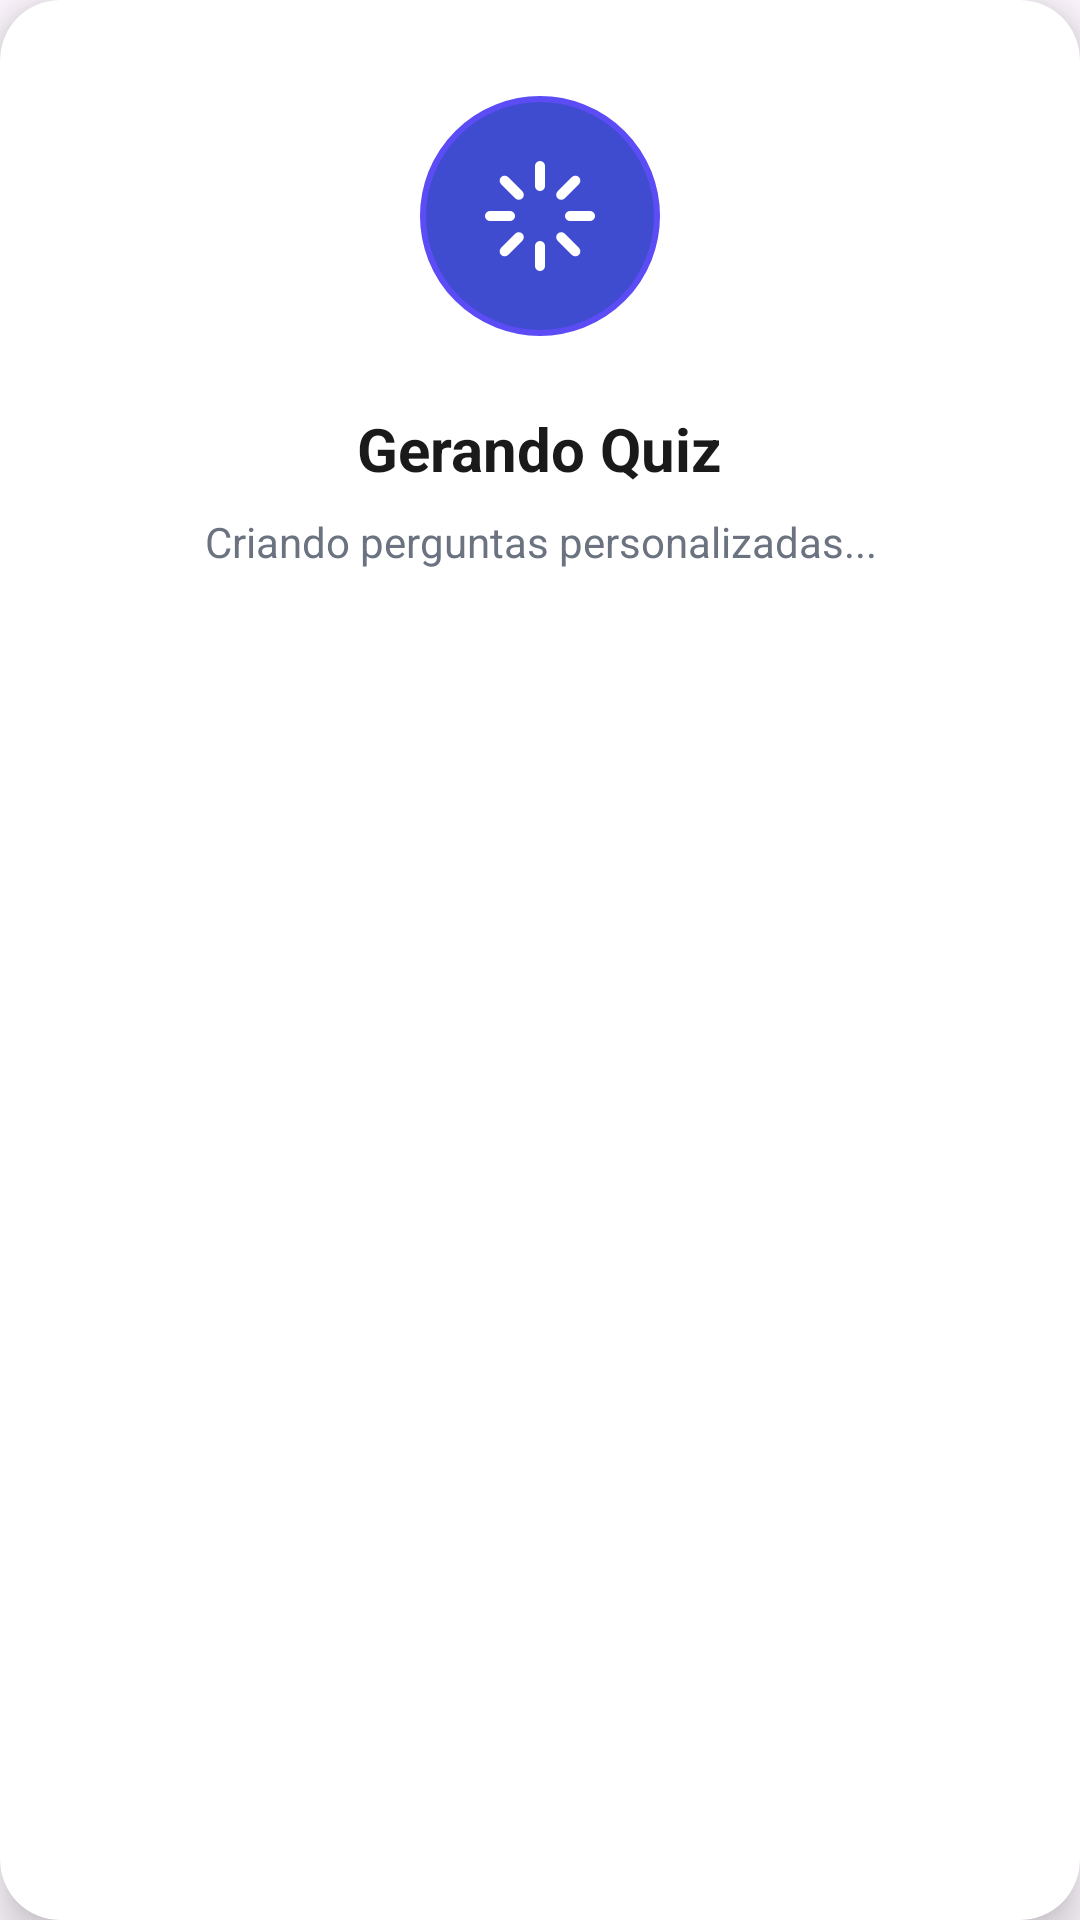

Named icons in this screenshot (1080x1920) and their centers, point (x, y):
loading spinner: point (540, 216)
